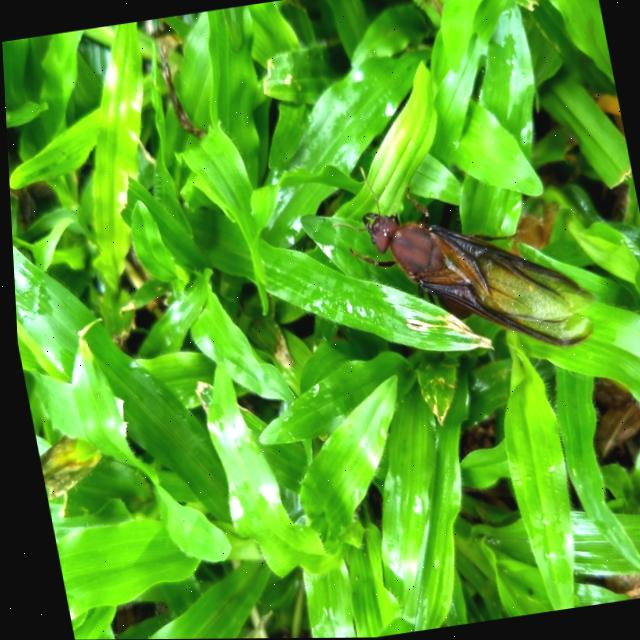Alive-Female-Alate: (318, 136, 603, 380)
